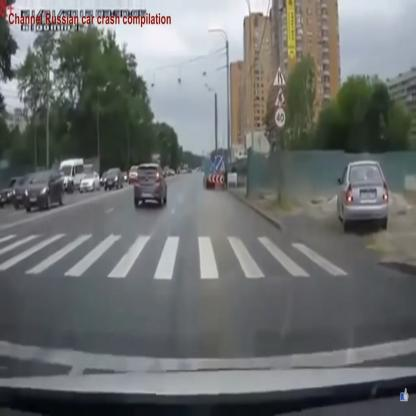crosswalk: (0, 232, 350, 278)
